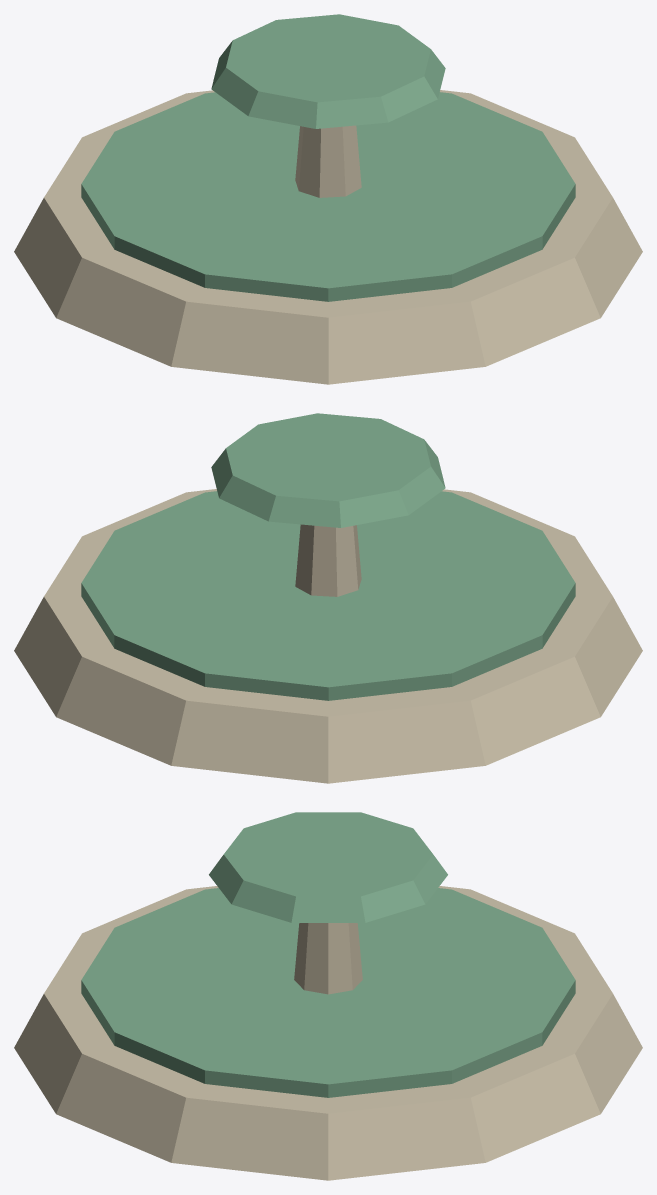
Rendered from fountain.glb.
The picture shows the model from 3 angles, top to bottom: view 1: azimuth 30°, elevation 25°; view 2: azimuth 150°, elevation 25°; view 3: azimuth 270°, elevation 25°; orthographic projection.
Parts seen in each view (by area): view 1: FountainMesh; view 2: FountainMesh; view 3: FountainMesh.
Boxes of the visible parts, x1,y1,x2,y2 form: FountainMesh: (14, 14, 642, 384); FountainMesh: (14, 413, 642, 783); FountainMesh: (14, 812, 642, 1180).
Size of the model in its own units: 4.2 by 1.43 by 4.2.
Materials: 1 (1 with a texture image).
